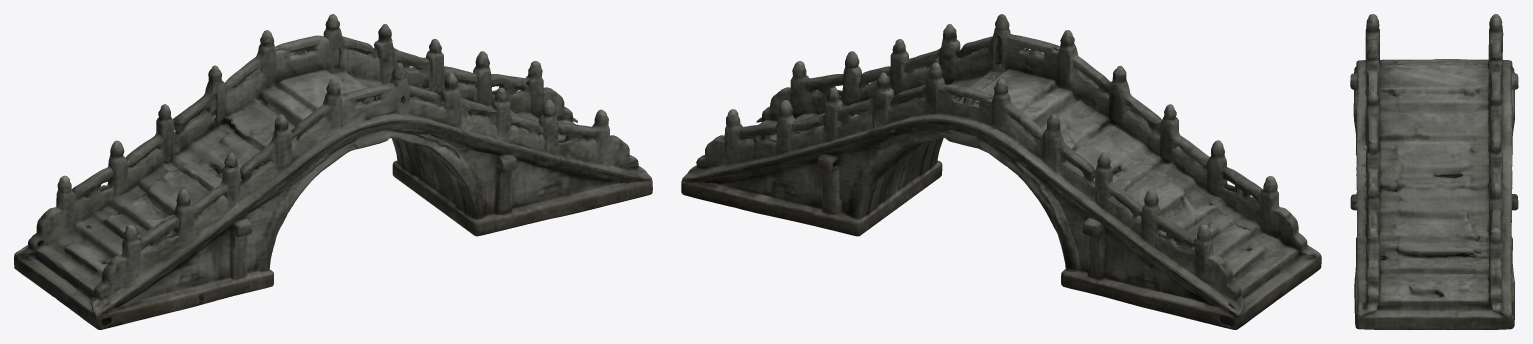
Rendered from stone-bridge.glb.
3 views of the same model, side by side, from view 1: azimuth 30°, elevation 25°; view 2: azimuth 150°, elevation 25°; view 3: azimuth 270°, elevation 25° (orthographic). The views are drawn at different scales.
Visible parts, largest first — view 1: geometry_0; view 2: geometry_0; view 3: geometry_0.
Boxes of the visible parts, bbox=[...] form: geometry_0: bbox=[14, 14, 652, 329]; geometry_0: bbox=[681, 14, 1321, 329]; geometry_0: bbox=[1350, 14, 1518, 329].
Size of the model in its own units: 8 by 2.55 by 2.25.
Materials: 1 (1 with a texture image).
